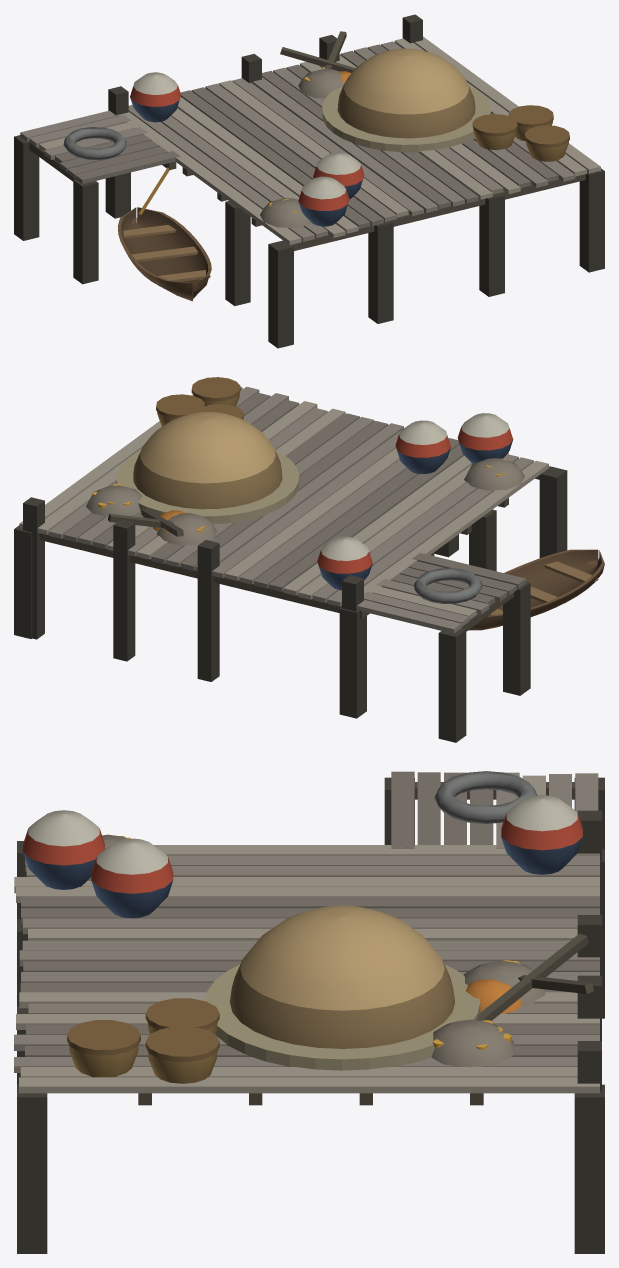
File: VerHut12.glb
3 views of the same model, one above another, from view 1: azimuth 30°, elevation 25°; view 2: azimuth 150°, elevation 25°; view 3: azimuth 270°, elevation 25° (orthographic). The views are drawn at different scales.
Parts seen in each view (by area): view 1: VerHut12_deck_c; view 2: VerHut12_deck_c; view 3: VerHut12_deck_c.
Part boxes in pixels (x1=…): VerHut12_deck_c: x1=14, y1=14, x2=604, y2=348; VerHut12_deck_c: x1=14, y1=377, x2=604, y2=742; VerHut12_deck_c: x1=14, y1=771, x2=604, y2=1253.
Size of the model in its own units: 9.18 by 3.49 by 7.18.
